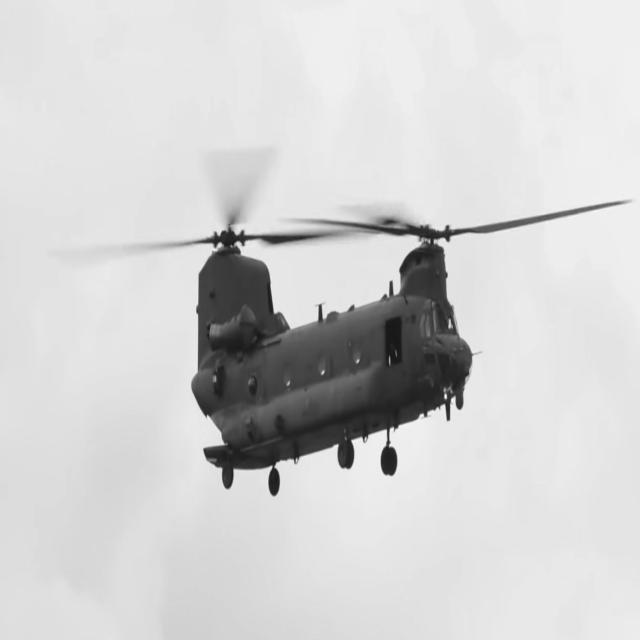Helicopter: (84, 203, 624, 497)
